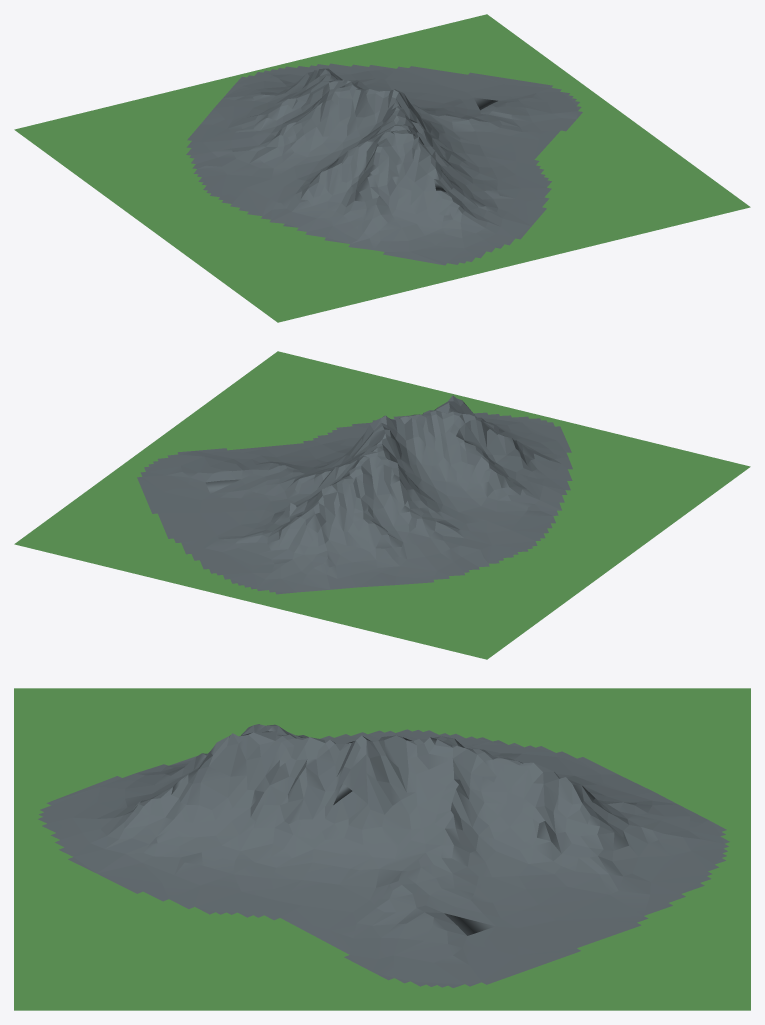
Rendered from Landscape_03.fbx.
3 renders of one model, top to bottom at view 1: azimuth 30°, elevation 25°; view 2: azimuth 150°, elevation 25°; view 3: azimuth 270°, elevation 25°, orthographic. The views are drawn at different scales.
Visible parts, largest first — view 1: Landscape_03; view 2: Landscape_03; view 3: Landscape_03.
Boxes of the visible parts, x1,y1,x2,y2 form: Landscape_03: (14, 14, 750, 322); Landscape_03: (14, 351, 750, 659); Landscape_03: (14, 688, 750, 1010).
Size of the model in its own units: 15256 by 2575 by 14735.
Materials: 1 (1 with a texture image).
